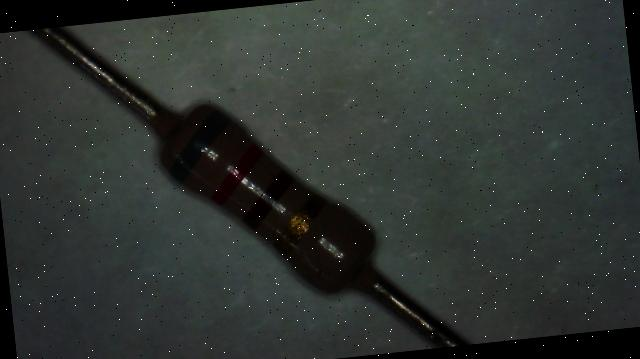brown: (238, 169, 300, 229)
gold: (272, 196, 326, 253)
grey: (164, 107, 236, 184)
red: (206, 142, 268, 206)
resistor: (125, 72, 410, 329)
